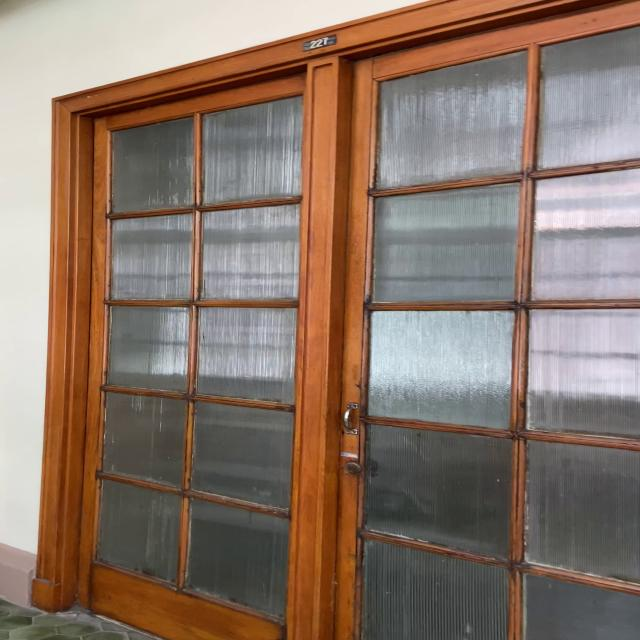room227: (300, 32, 338, 54)
